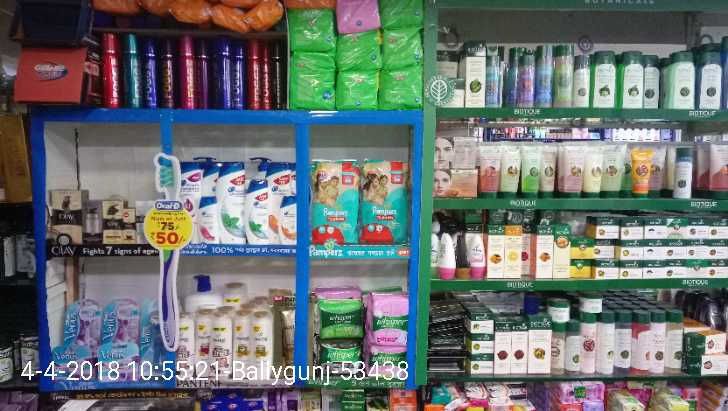venus: (104, 297, 138, 341), (65, 298, 98, 343), (140, 300, 162, 361), (98, 343, 137, 360), (50, 346, 91, 359)
